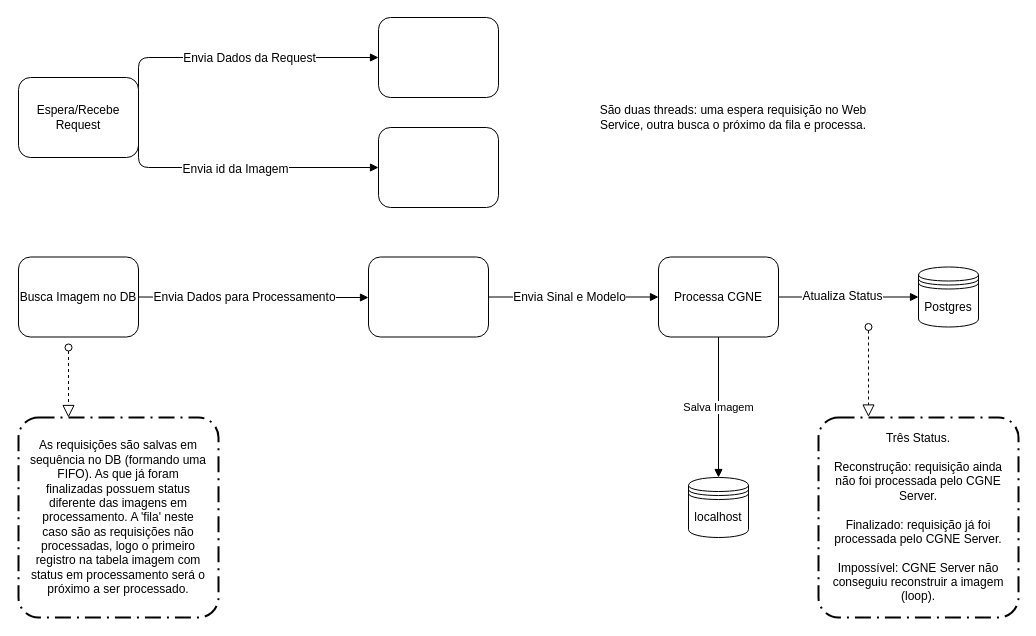
Image size: 1036x636. Some labels were removed from this diagram. The centre of each missing label's shape, as x and y in pixels:
"Encontra Modelo" belongs at point 428,296.
"Retorna Imagem Reconstruída" belongs at point 438,167.
"Salva Imagem no DB (status: recon)" belongs at point 438,57.
